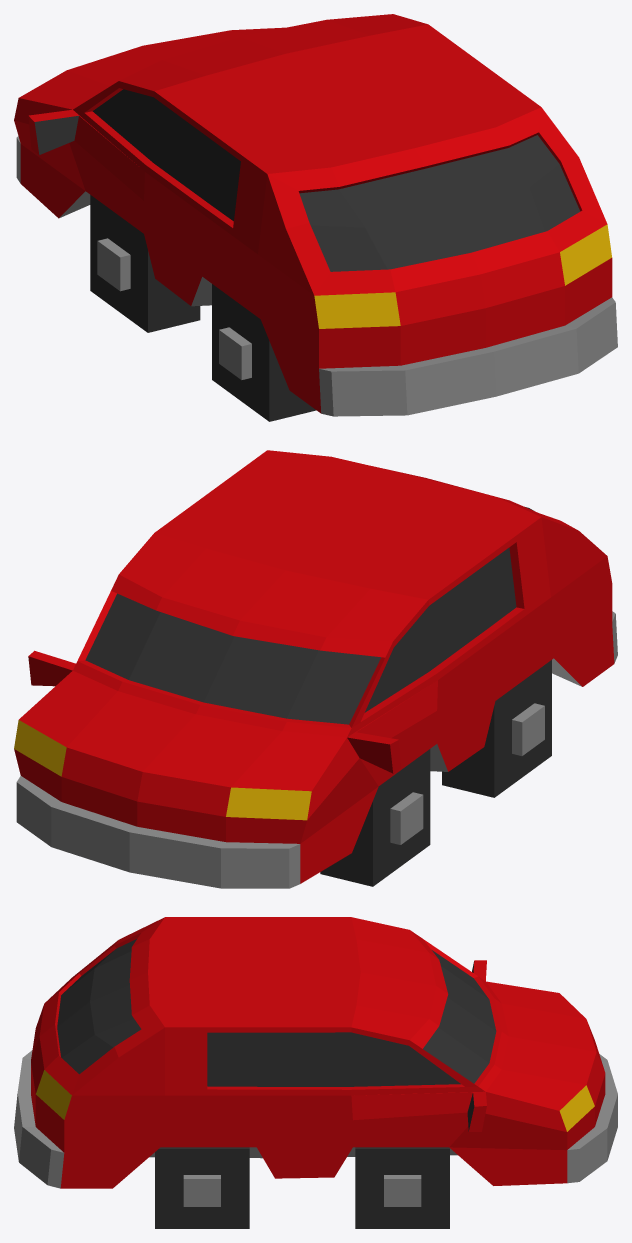
Rendered from NewCar.fbx.
3 views of the same model, one above another, from view 1: azimuth 30°, elevation 25°; view 2: azimuth 150°, elevation 25°; view 3: azimuth 270°, elevation 25° (orthographic). The views are drawn at different scales.
Parts seen in each view (by area): view 1: Car; view 2: Car; view 3: Car.
Boxes of the visible parts, bbox=[...] form: Car: bbox=[14, 14, 617, 421]; Car: bbox=[14, 450, 617, 888]; Car: bbox=[14, 917, 617, 1228].
Size of the model in its own units: 376 by 239 by 654.
